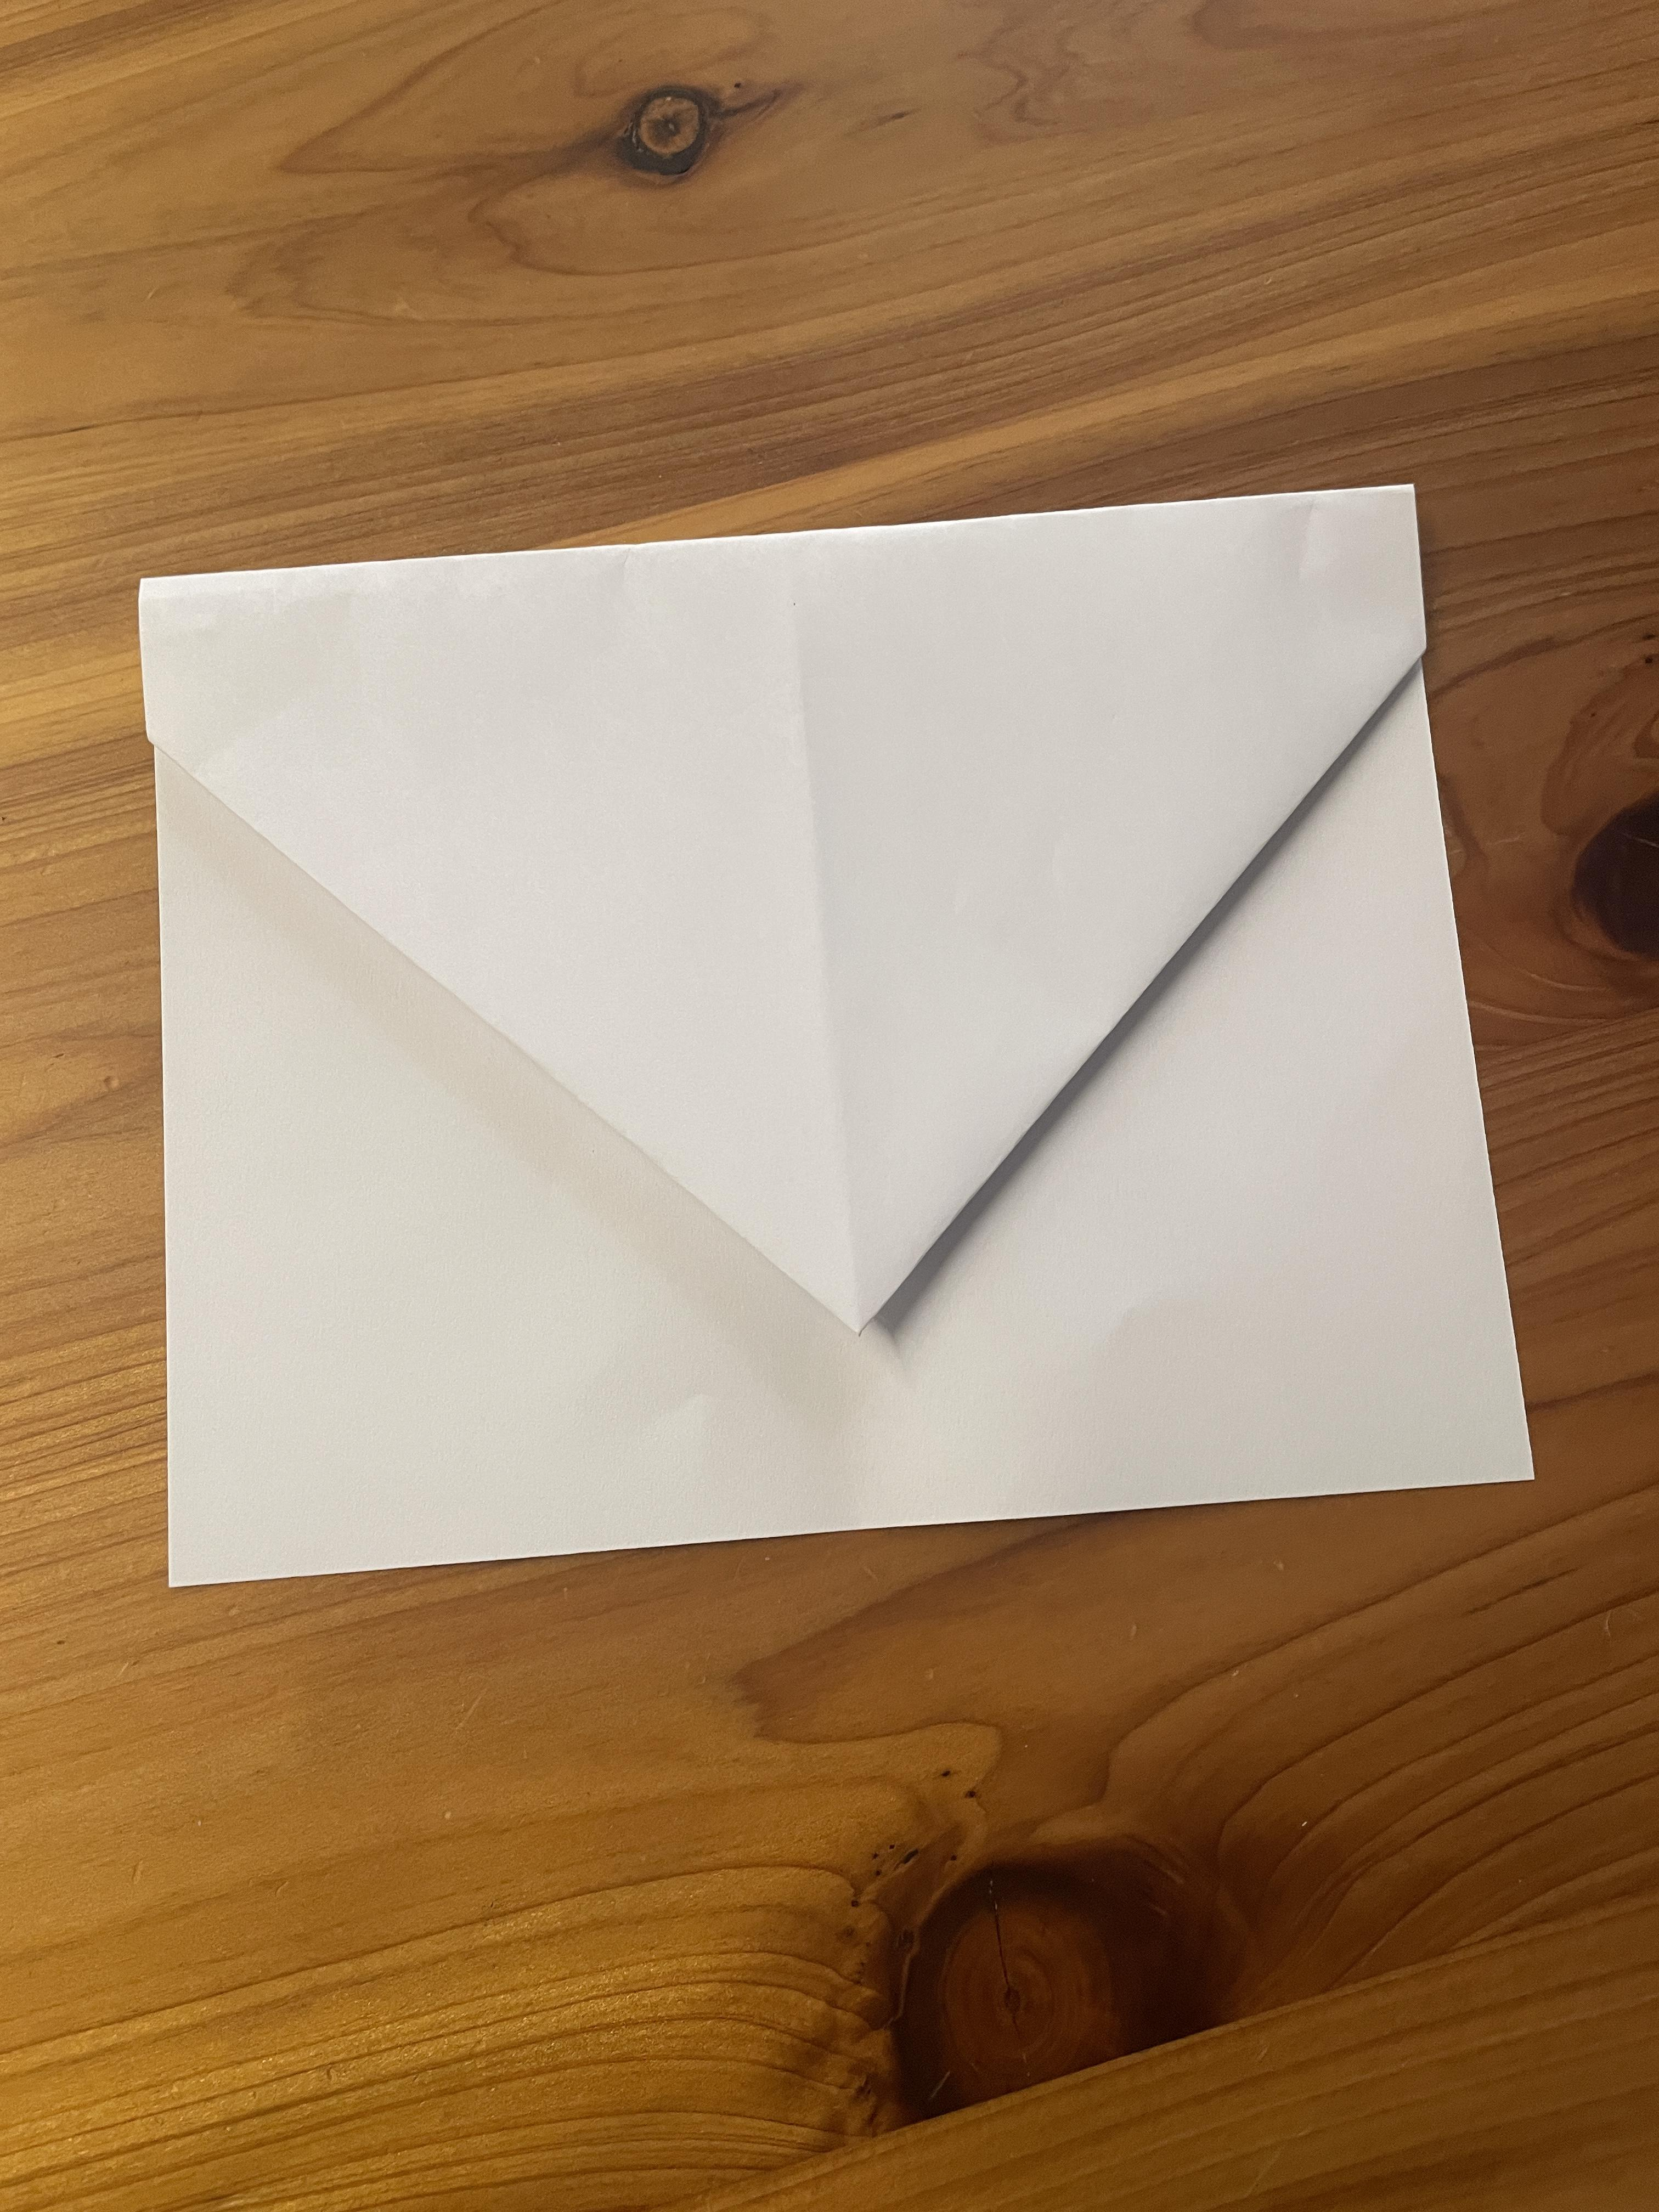shape_1: (66, 402, 1659, 1752)
